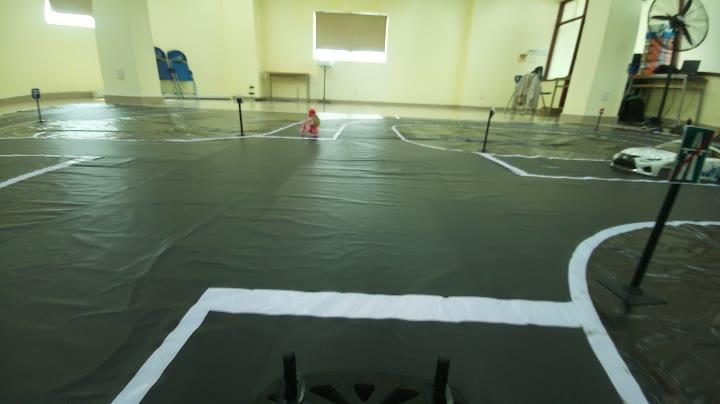highway_exit: (672, 125, 712, 193)
